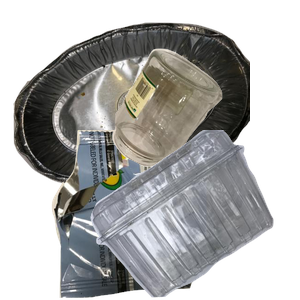glass: (110, 46, 300, 205)
metal: (11, 20, 251, 200)
plastic: (88, 130, 300, 300)
trash: (49, 130, 235, 300)
